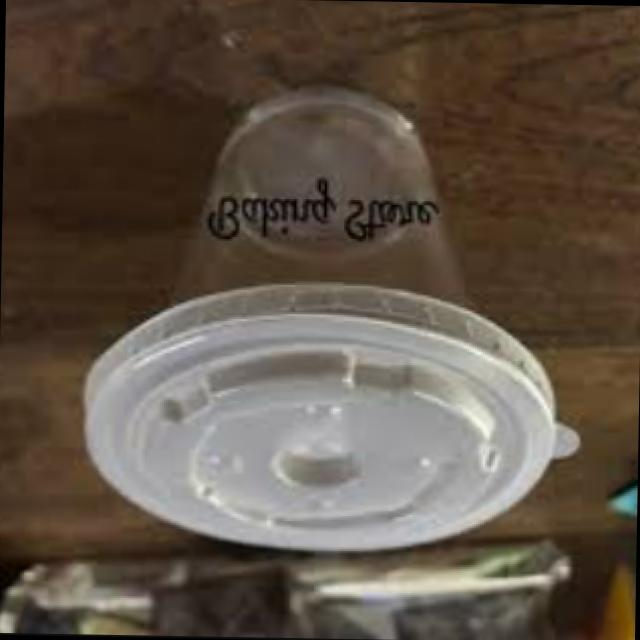GelasPlastik: (76, 80, 582, 560)
